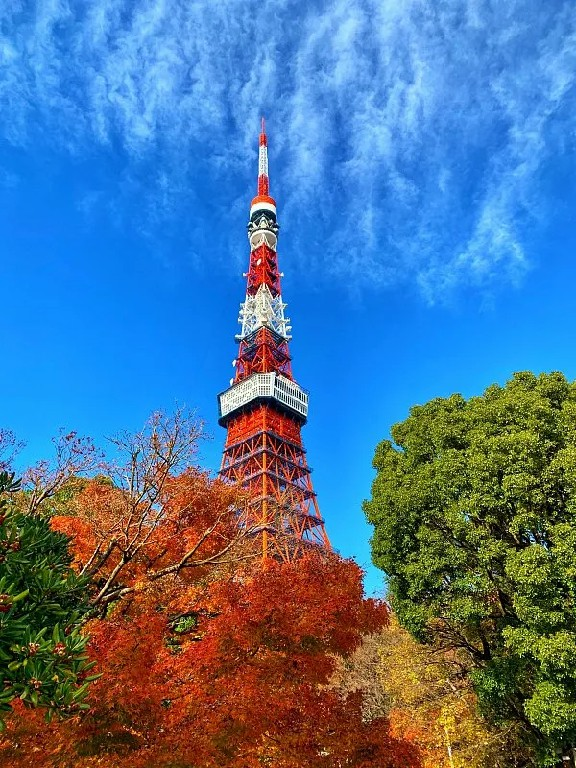Tokyo: (220, 108, 332, 555)
